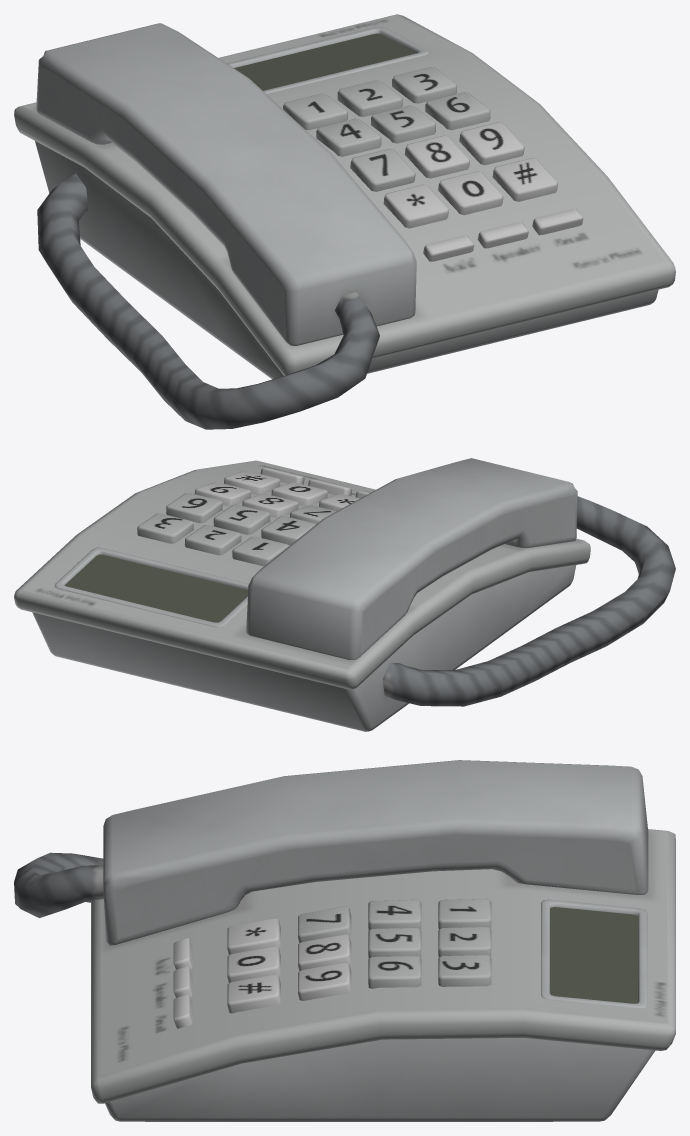
Rendered from Phone.fbx.
3 views of the same model, one above another, from view 1: azimuth 30°, elevation 25°; view 2: azimuth 150°, elevation 25°; view 3: azimuth 270°, elevation 25° (orthographic). The views are drawn at different scales.
Visible parts, largest first — view 1: Phone; view 2: Phone; view 3: Phone.
Boxes of the visible parts, x1=… form: Phone: x1=14, y1=14, x2=675, y2=429; Phone: x1=14, y1=458, x2=675, y2=731; Phone: x1=14, y1=760, x2=675, y2=1121.
Size of the model in its own units: 0.3531 by 0.1309 by 0.3991.
